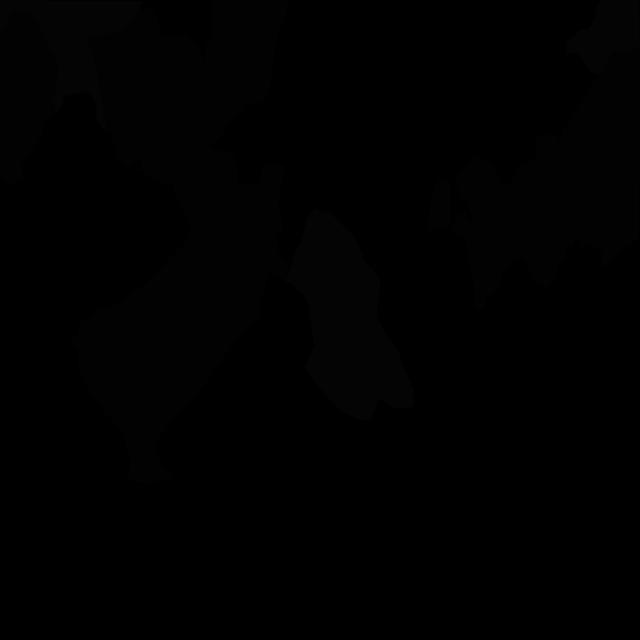cardboard: (70, 120, 290, 483), (450, 48, 640, 310), (88, 7, 247, 168), (0, 11, 57, 185), (204, 0, 288, 104), (428, 178, 451, 231)
soft_plastic: (284, 208, 414, 421), (0, 0, 143, 130), (566, 0, 640, 75)
